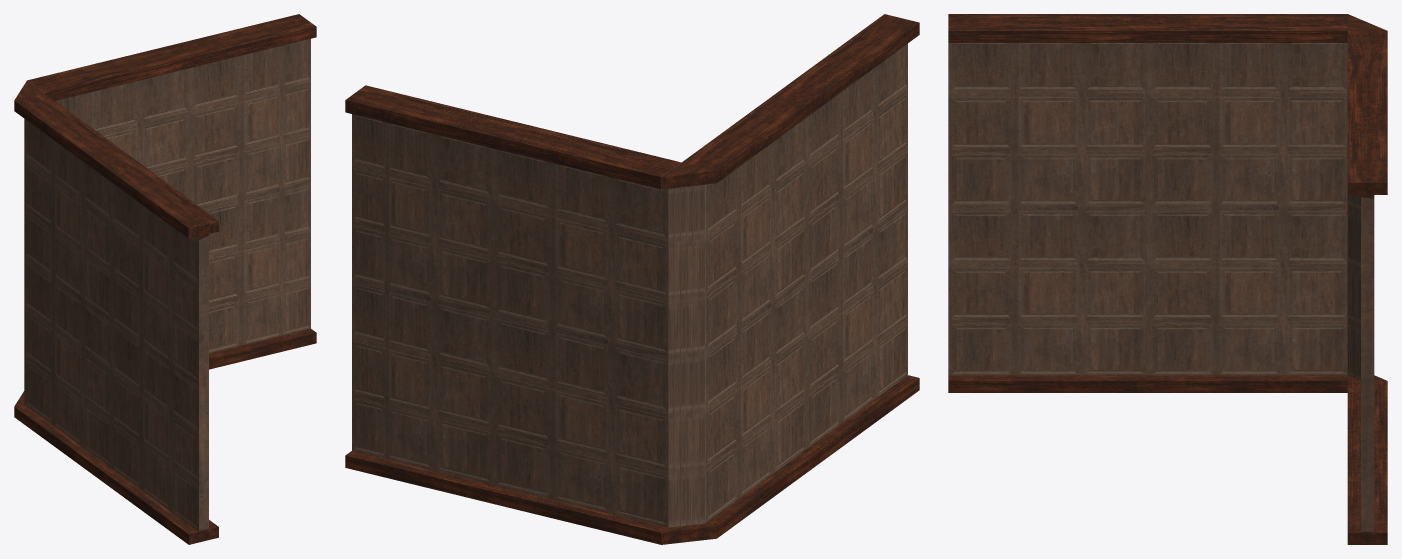
The model's file is SPECIAL CORNER.fbx.
3 views of the same model, side by side, from view 1: azimuth 30°, elevation 25°; view 2: azimuth 150°, elevation 25°; view 3: azimuth 270°, elevation 25° (orthographic). The views are drawn at different scales.
Visible parts, largest first — view 1: CORNER2_sy2; view 2: CORNER2_sy2; view 3: CORNER2_sy2.
Part boxes in pixels (box(x1,y1,x2,y2)): CORNER2_sy2: box(14, 14, 316, 544); CORNER2_sy2: box(345, 14, 919, 544); CORNER2_sy2: box(948, 14, 1387, 544).
Bounding box in the file's own units: 300 × 300 × 330.
